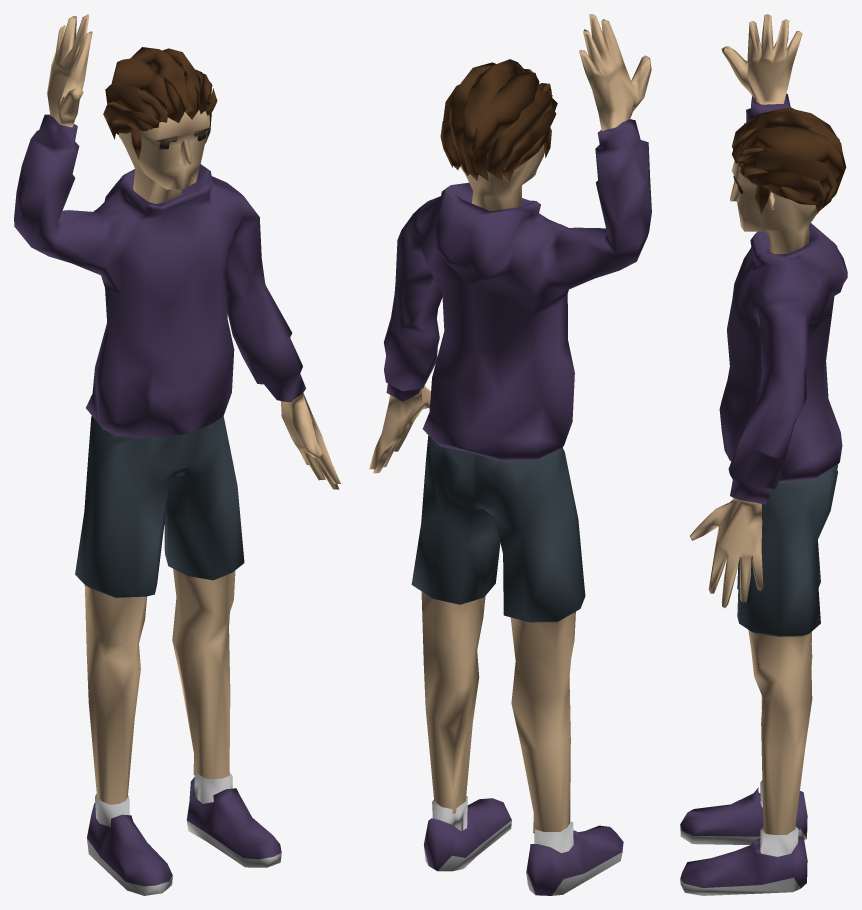
Rendered from p_mcasual_wave.glb.
3 views of the same model, side by side, from view 1: azimuth 30°, elevation 25°; view 2: azimuth 150°, elevation 25°; view 3: azimuth 270°, elevation 25° (orthographic). The views are drawn at different scales.
Parts seen in each view (by area): view 1: Casual_Body_posed; view 2: Casual_Body_posed; view 3: Casual_Body_posed.
Boxes of the visible parts, box(x1,y1,x2,y2) form: Casual_Body_posed: box(14, 14, 340, 895); Casual_Body_posed: box(369, 14, 651, 895); Casual_Body_posed: box(680, 14, 847, 895).
Size of the model in its own units: 0.6794 by 1.9 by 0.3563.
